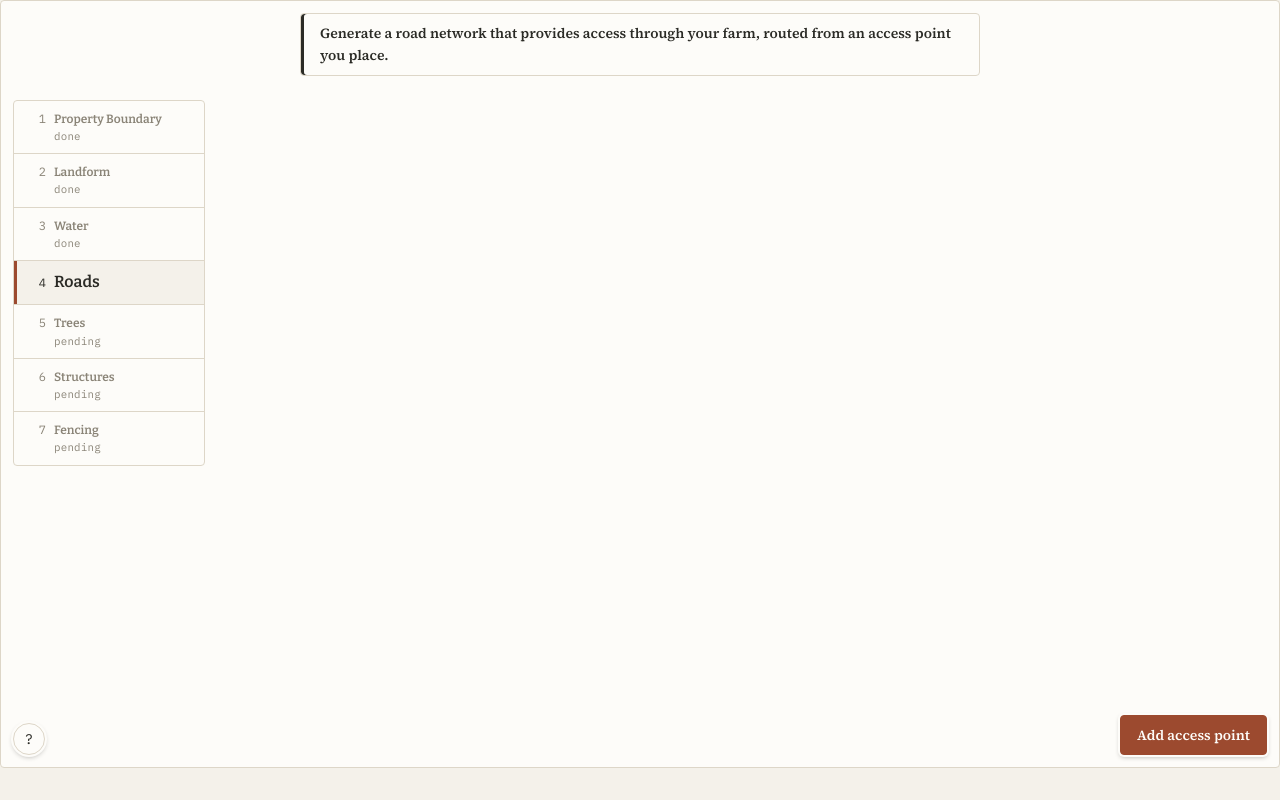
Test case: 1. the roads entry registers one card › opens by itself on "Add access point", not on arrival, through the shipped shell and registry
Click the button "Add access point" at (1193, 735), box x1=1120 y1=715 x2=1267 y2=755
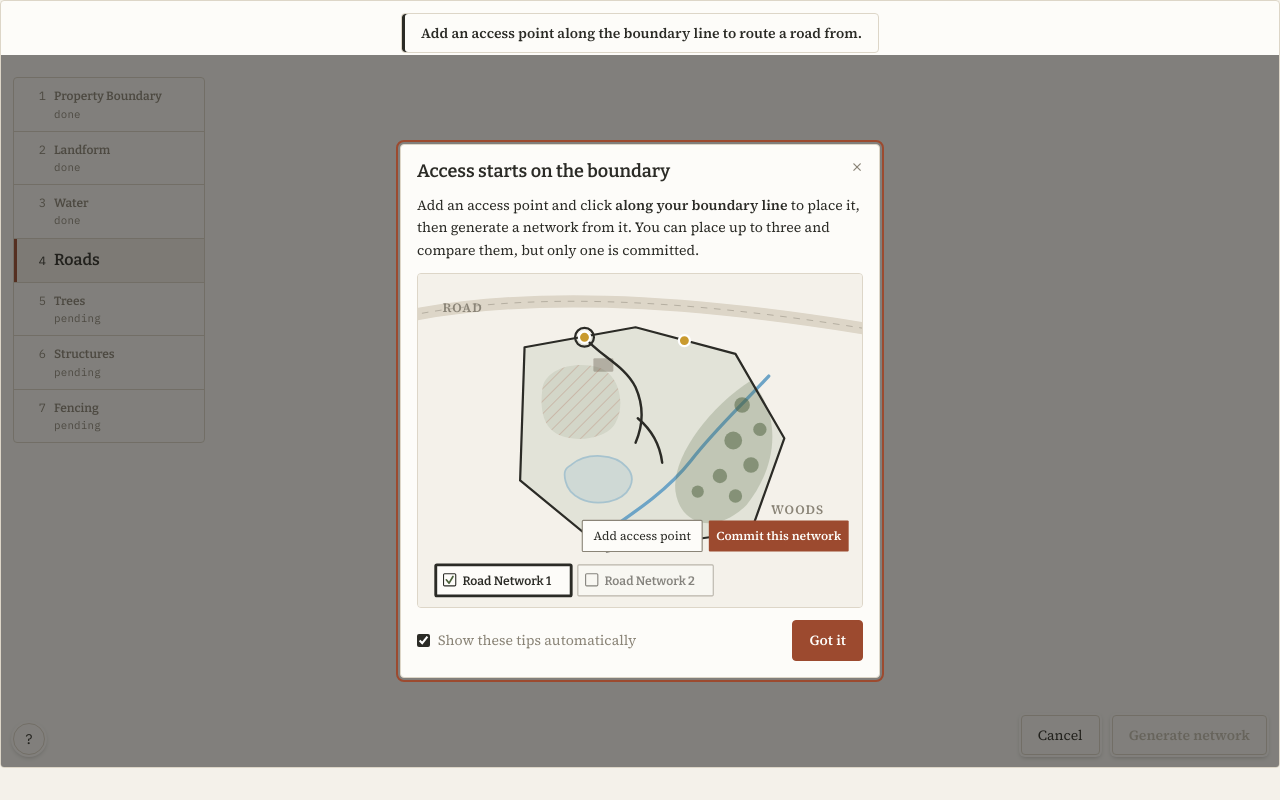
Expected: the heading "Access starts on the boundary" is shown, x1=417 y1=160 x2=670 y2=182
Expected: the picture with class "tutorial-anim--roads" is shown, x1=418 y1=274 x2=862 y2=607
